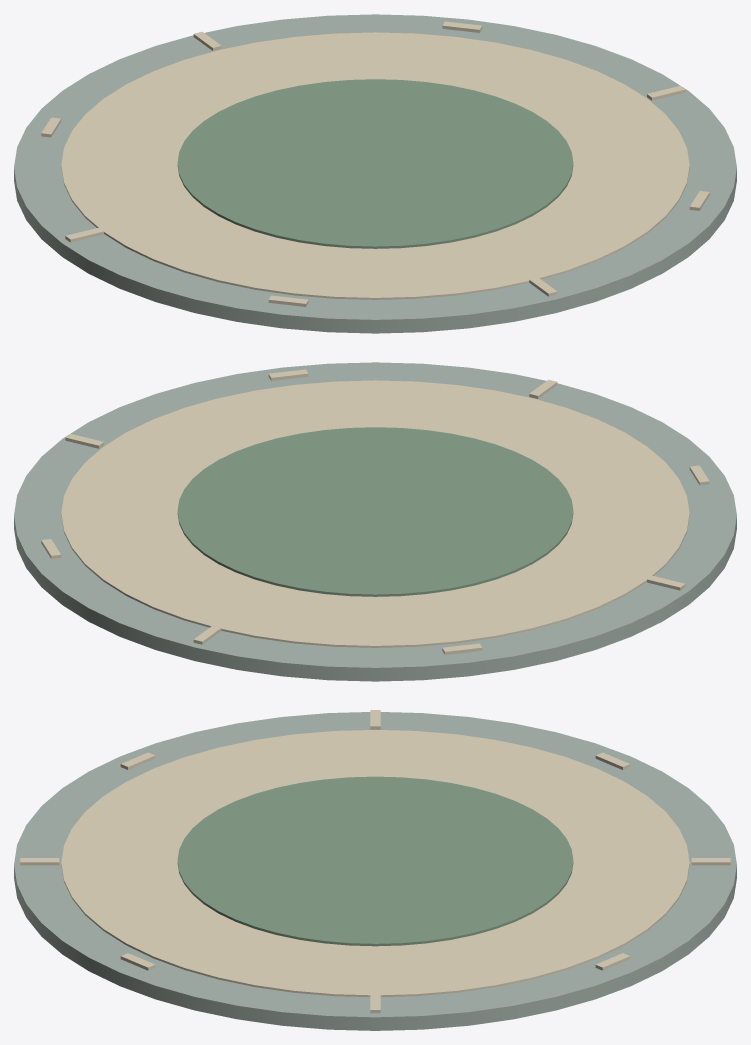
File: rug_round.glb
3 views of the same model, one above another, from view 1: azimuth 30°, elevation 25°; view 2: azimuth 150°, elevation 25°; view 3: azimuth 270°, elevation 25° (orthographic).
Parts seen in each view (by area): view 1: RingAccent, CenterMotif, RoundRug; view 2: RingAccent, CenterMotif, RoundRug; view 3: RingAccent, CenterMotif, RoundRug.
Part boxes in pixels (<box>): RingAccent: <box>61,32,689,299</box>; CenterMotif: <box>177,79,573,248</box>; RoundRug: <box>14,14,736,333</box>; RingAccent: <box>61,380,689,647</box>; CenterMotif: <box>177,427,573,596</box>; RoundRug: <box>14,362,736,681</box>; RingAccent: <box>61,730,689,996</box>; CenterMotif: <box>177,776,573,946</box>; RoundRug: <box>14,712,736,1030</box>.
Size of the model in its own units: 1.68 by 0.0465 by 1.68.
